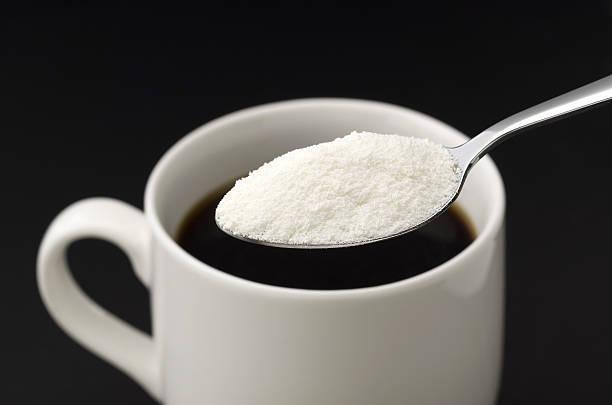cup-handle: (32, 95, 509, 405)
